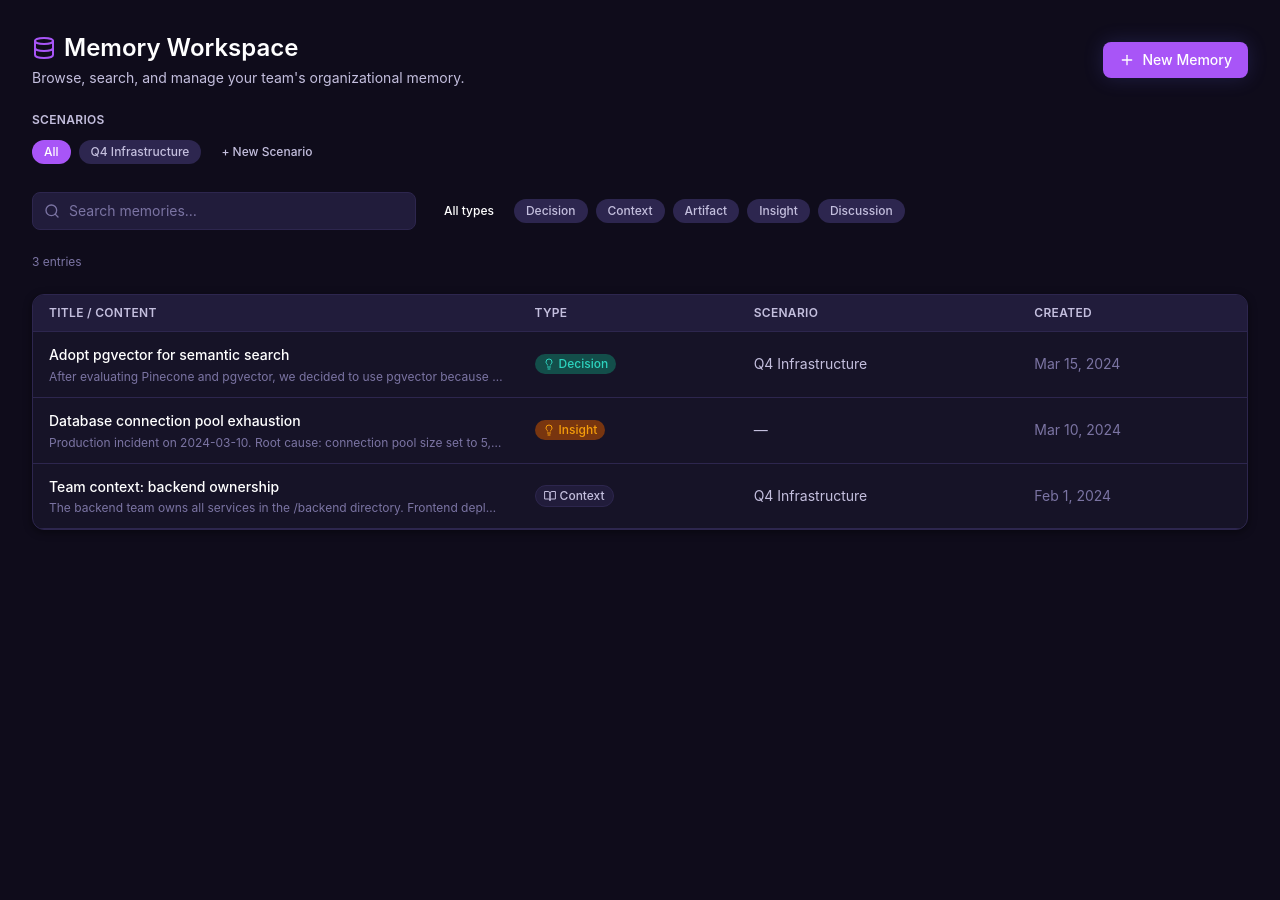
Test: MemoryPage — create scenario dialog › shows validation error when name is empty
The image size is (1280, 900).
Click the button "+ New Scenario" at point(267, 152), box x1=209 y1=136 x2=324 y2=168
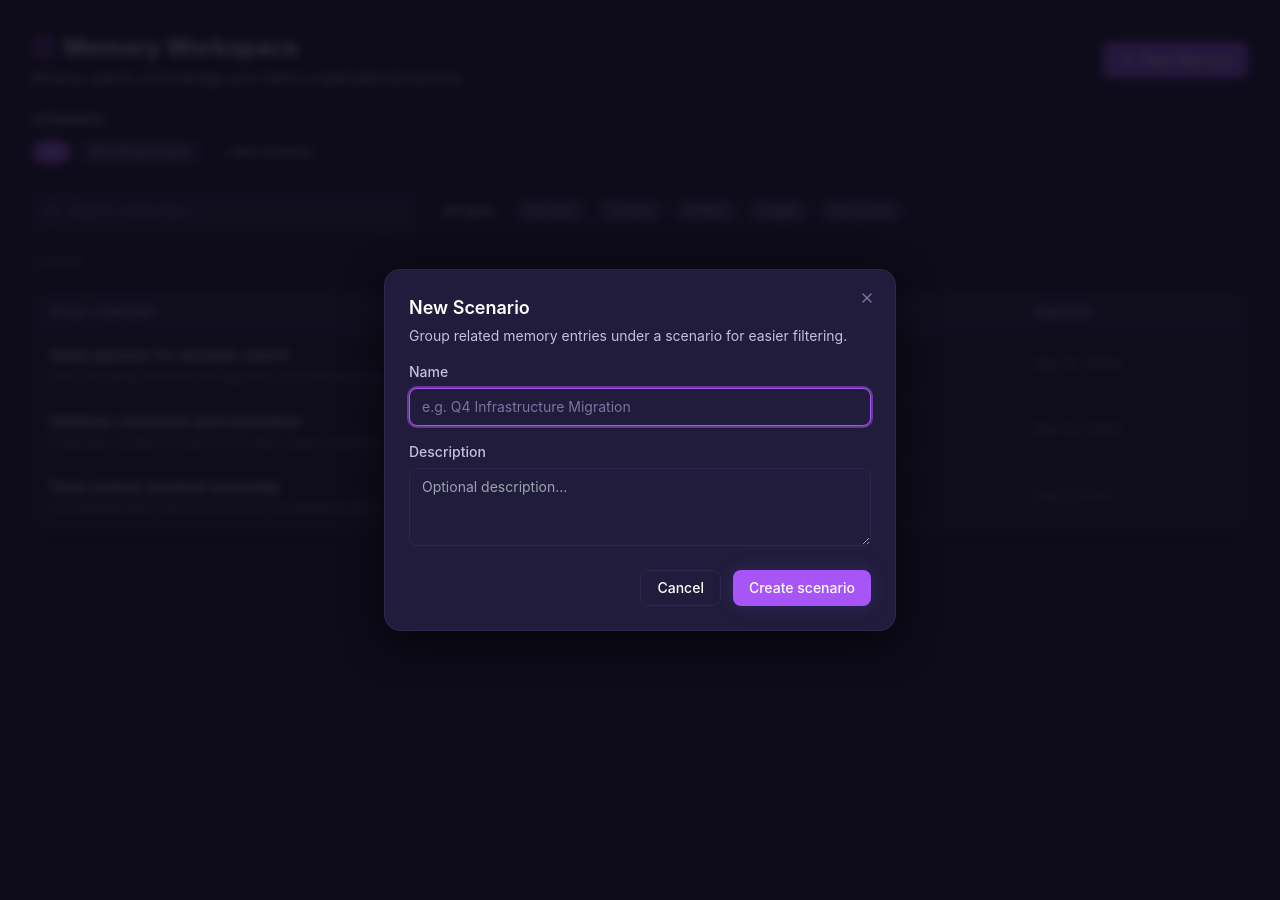
Expected: the dialog is shown, x1=384 y1=269 x2=896 y2=631
Click the button "Create scenario" at point(802, 588), box x1=733 y1=570 x2=871 y2=606
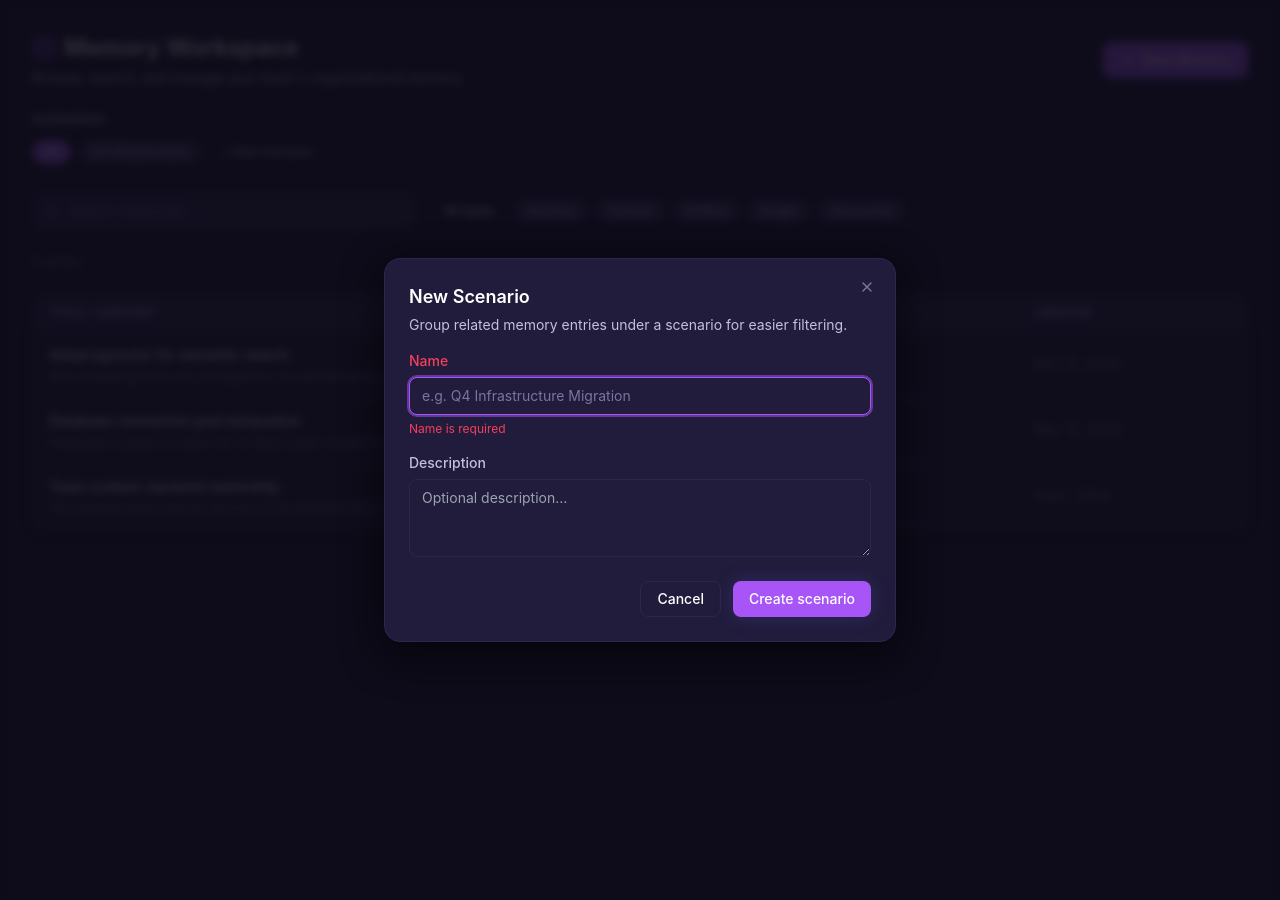
Expected: the text "Name is required" is shown, x1=409 y1=421 x2=506 y2=436
